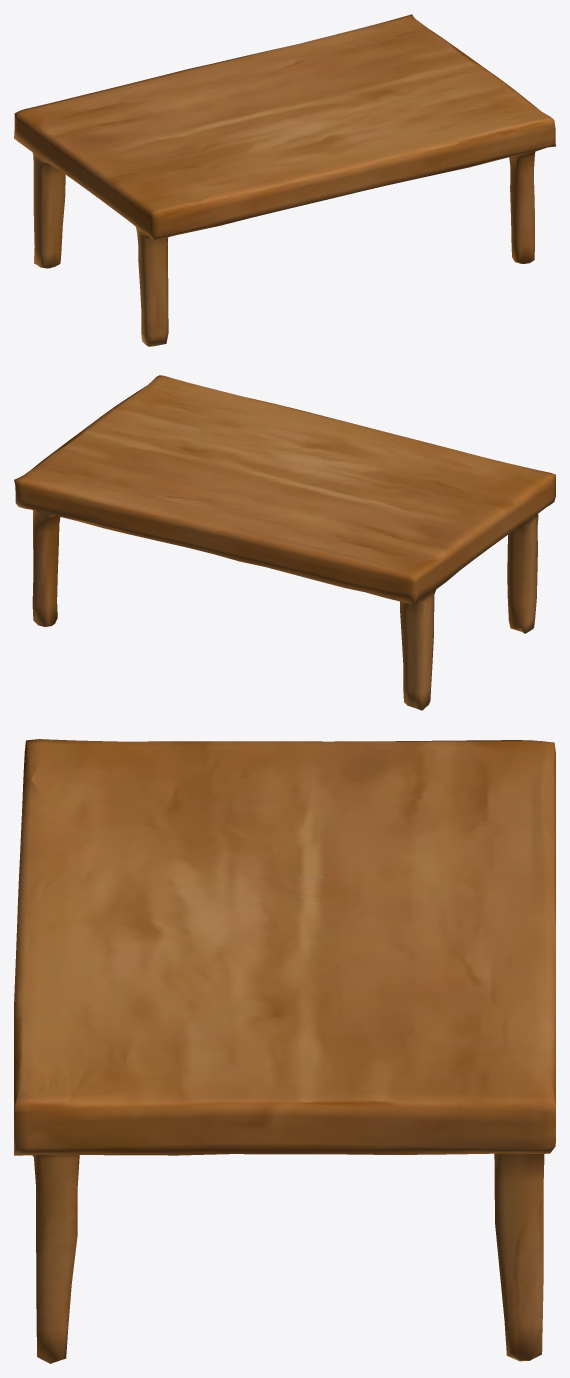
File: coffee_table.glb
3 views of the same model, one above another, from view 1: azimuth 30°, elevation 25°; view 2: azimuth 150°, elevation 25°; view 3: azimuth 270°, elevation 25° (orthographic). The views are drawn at different scales.
Visible parts, largest first — view 1: coffee_table; view 2: coffee_table; view 3: coffee_table.
Part boxes in pixels (<box>): coffee_table: <box>14,14,555,346</box>; coffee_table: <box>14,375,555,710</box>; coffee_table: <box>14,739,555,1363</box>.
Size of the model in its own units: 1.2 by 0.42 by 0.7499.
Materials: 1 (1 with a texture image).
